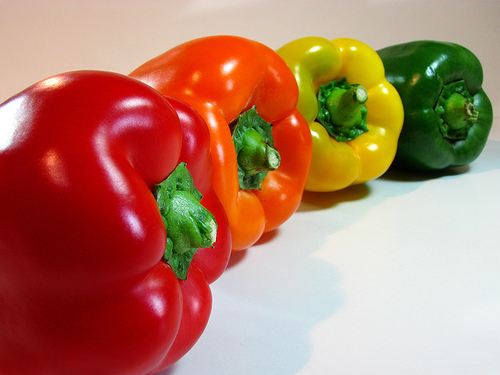capsicum: (0, 68, 234, 374), (127, 34, 312, 253), (275, 38, 404, 190), (375, 39, 494, 176)
